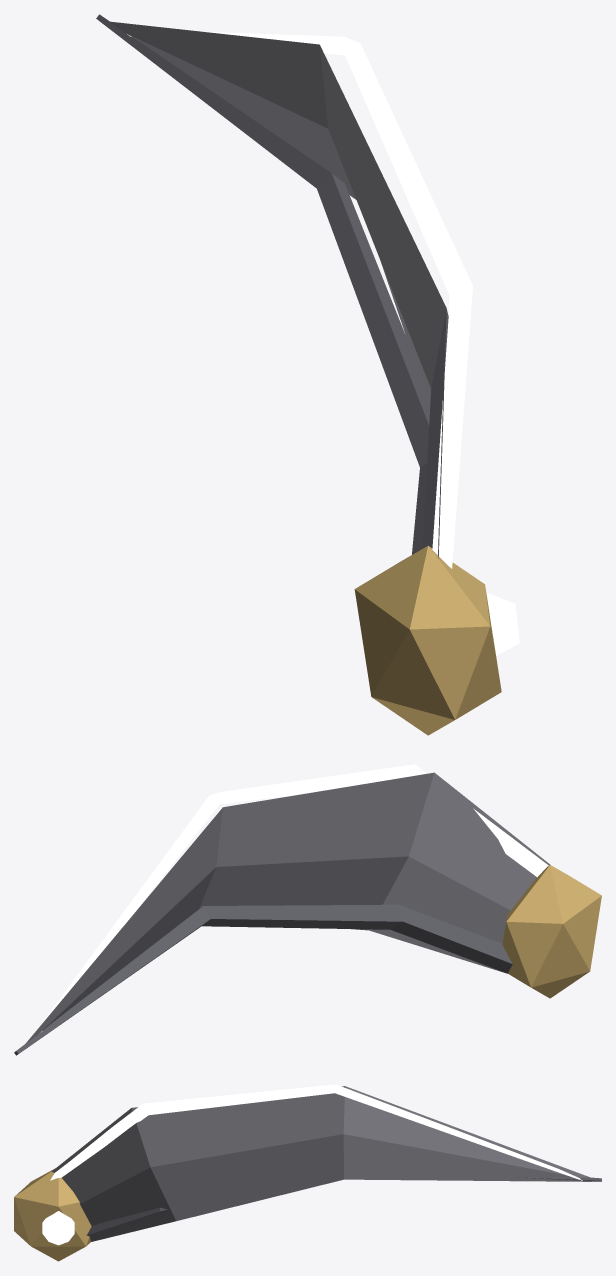
File: edge.glb
3 renders of one model, top to bottom at view 1: azimuth 30°, elevation 25°; view 2: azimuth 150°, elevation 25°; view 3: azimuth 270°, elevation 25°, orthographic. The views are drawn at different scales.
Parts seen in each view (by area): view 1: edge; view 2: edge; view 3: edge.
Part boxes in pixels (x1,y1,x2,y2): edge: [96, 14, 519, 735]; edge: [14, 764, 601, 1055]; edge: [14, 1084, 601, 1261].
Size of the model in its own units: 0.1666 by 0.2598 by 0.6169.
